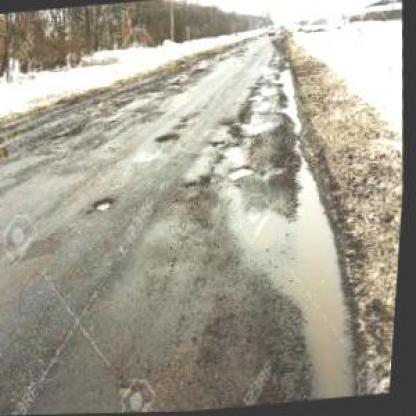pothole: (229, 165, 259, 182), (94, 196, 116, 214), (154, 132, 182, 144), (213, 140, 228, 150)
